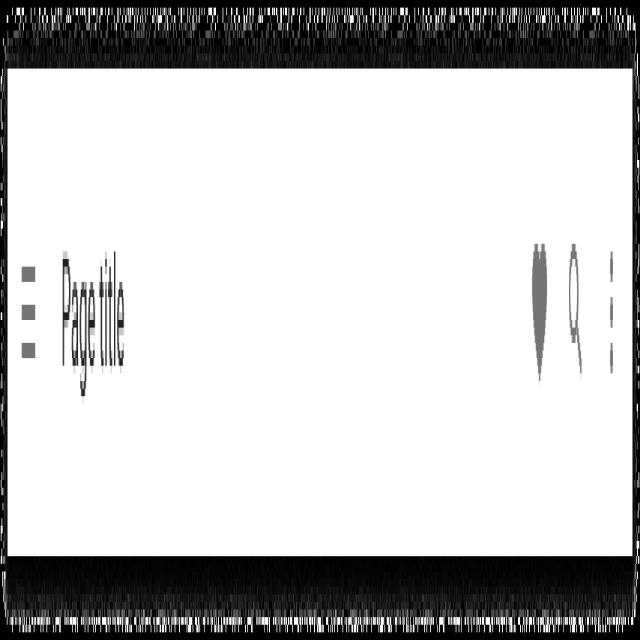QLabel: (60, 242, 126, 403)
VAppBar: (7, 57, 633, 570)
VIcon: (531, 228, 548, 394), (566, 238, 584, 390), (20, 243, 37, 377), (608, 238, 614, 387)
